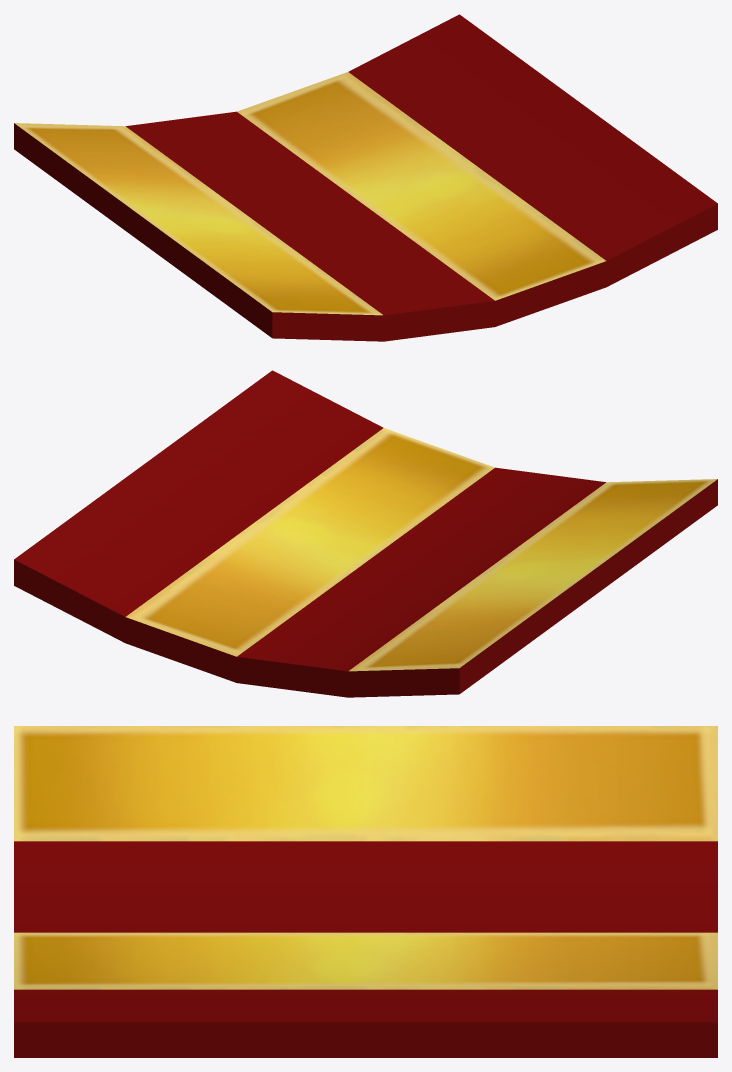
File: egypt_floor_dpath.gltf
3 views of the same model, one above another, from view 1: azimuth 30°, elevation 25°; view 2: azimuth 150°, elevation 25°; view 3: azimuth 270°, elevation 25° (orthographic). The views are drawn at different scales.
Visible parts, largest first — view 1: egypt_floor_dpath_glb; view 2: egypt_floor_dpath_glb; view 3: egypt_floor_dpath_glb.
Part boxes in pixels (x1,y1,x2,y2): egypt_floor_dpath_glb: [14, 14, 717, 341]; egypt_floor_dpath_glb: [14, 370, 717, 697]; egypt_floor_dpath_glb: [14, 726, 717, 1057].
Size of what is drawn, in the model's own units: 3.98 by 0.591 by 4.
Materials: 1 (1 with a texture image).
